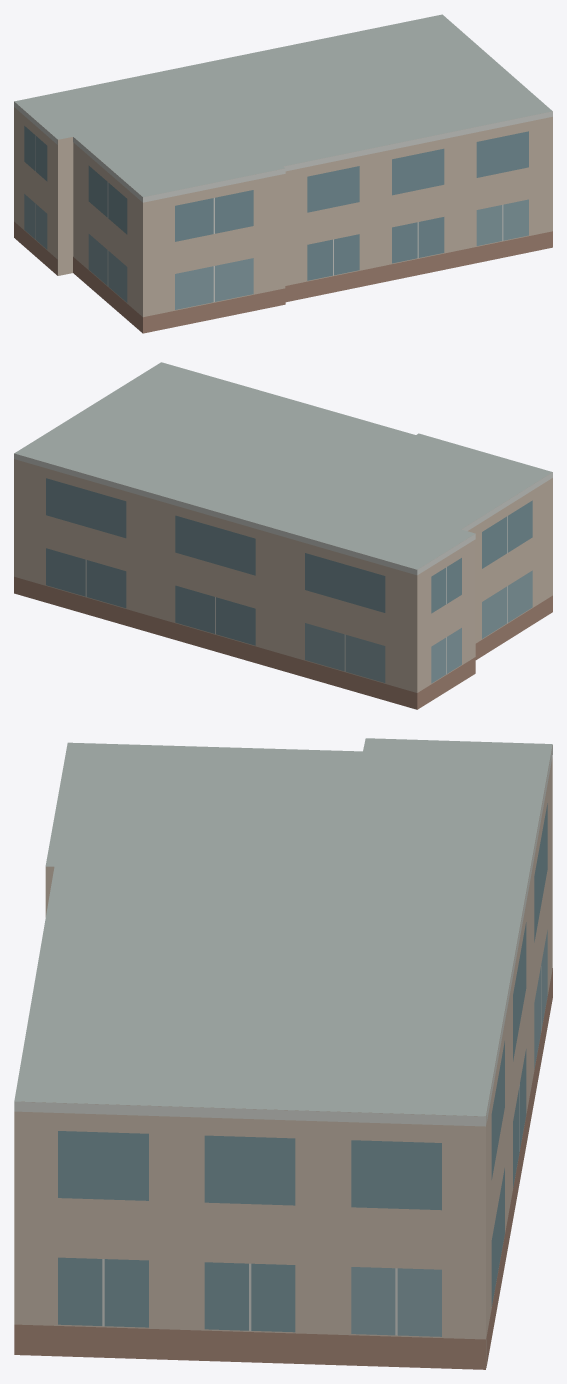
Rendered from survey-upis-32907469.glb.
3 renders of one model, top to bottom at view 1: azimuth 30°, elevation 25°; view 2: azimuth 150°, elevation 25°; view 3: azimuth 270°, elevation 25°, orthographic. The views are drawn at different scales.
Parts seen in each view (by area): view 1: survey-upis-32907469.tmp; view 2: survey-upis-32907469.tmp; view 3: survey-upis-32907469.tmp.
Part boxes in pixels (box(x1,y1,x2,y2)): survey-upis-32907469.tmp: box(14, 14, 552, 333); survey-upis-32907469.tmp: box(14, 362, 552, 709); survey-upis-32907469.tmp: box(14, 738, 552, 1369).
Size of the model in its own units: 19.54 by 6.1 by 11.76.
